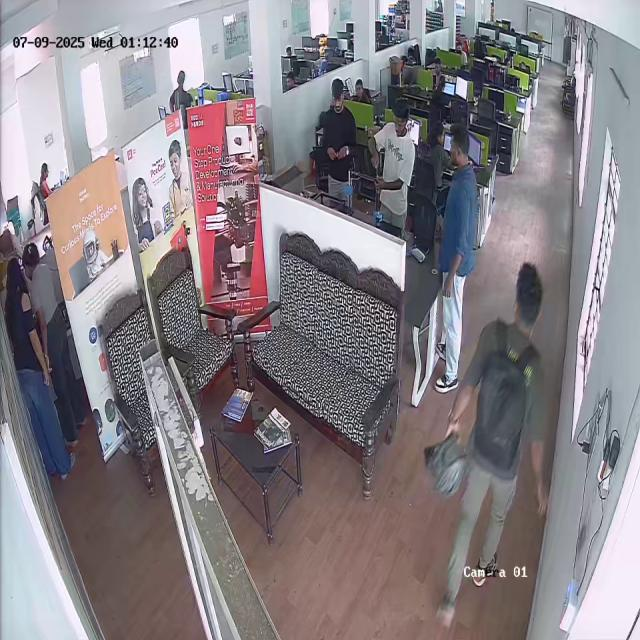person: (447, 262, 555, 625), (432, 121, 480, 390), (366, 100, 416, 232), (3, 259, 38, 411), (320, 78, 359, 204), (23, 243, 59, 326), (421, 121, 449, 189), (32, 162, 55, 208)
